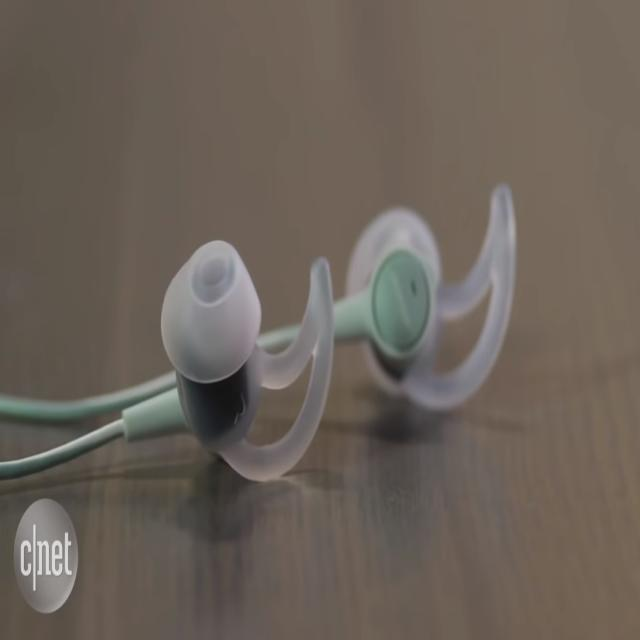Earphone: (0, 181, 518, 484)
